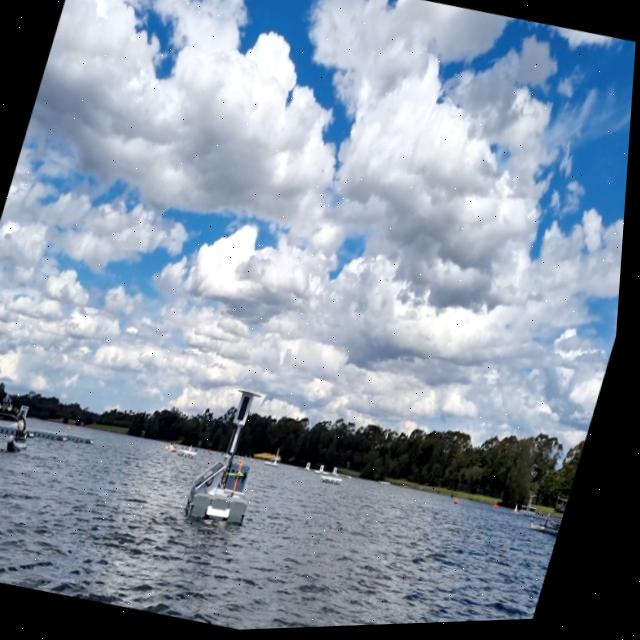led: (241, 395, 257, 426)
